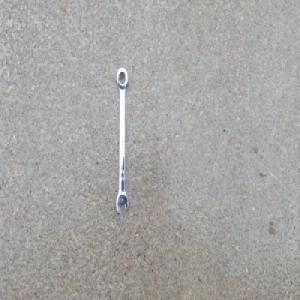Wrench: (115, 65, 129, 213)
